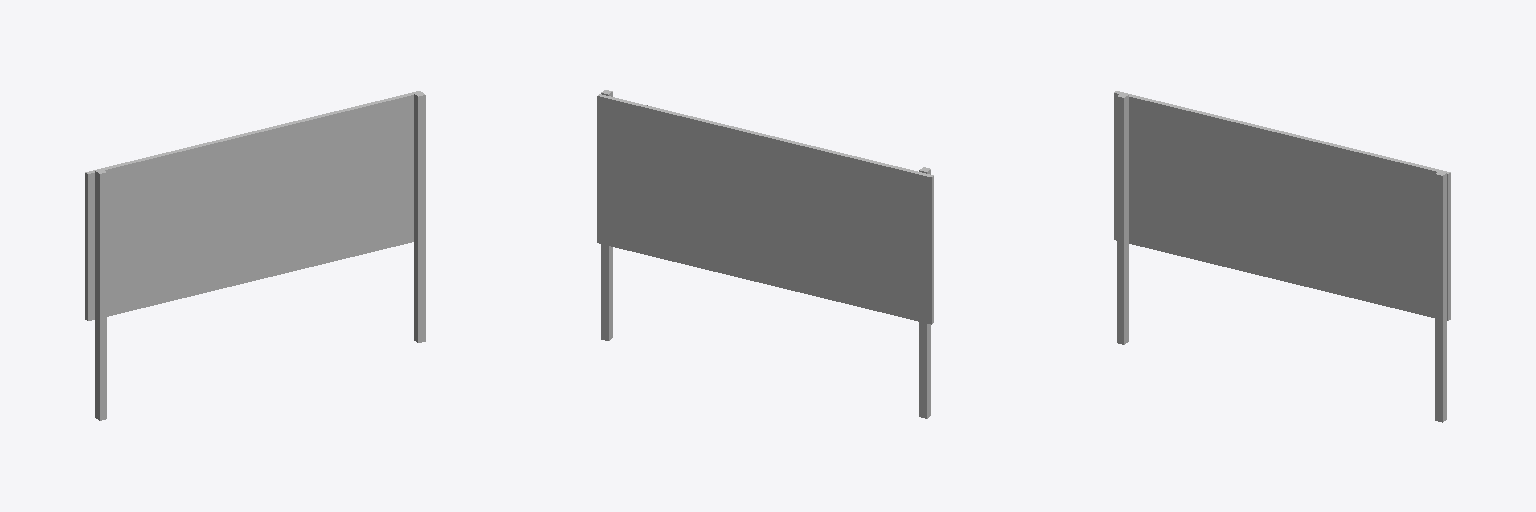
File: Outdoor-F-2.obj
3 renders of one model, left to right at view 1: azimuth 30°, elevation 25°; view 2: azimuth 150°, elevation 25°; view 3: azimuth 330°, elevation 25°, orthographic.
Parts seen in each view (by area): view 1: Outdoor-F; view 2: Outdoor-F; view 3: Outdoor-F.
Boxes of the visible parts, x1=… form: Outdoor-F: x1=85, y1=91, x2=425, y2=420; Outdoor-F: x1=597, y1=90, x2=933, y2=418; Outdoor-F: x1=1114, y1=91, x2=1450, y2=422.
Size of the model in its own units: 14.26 by 10.06 by 0.5261.